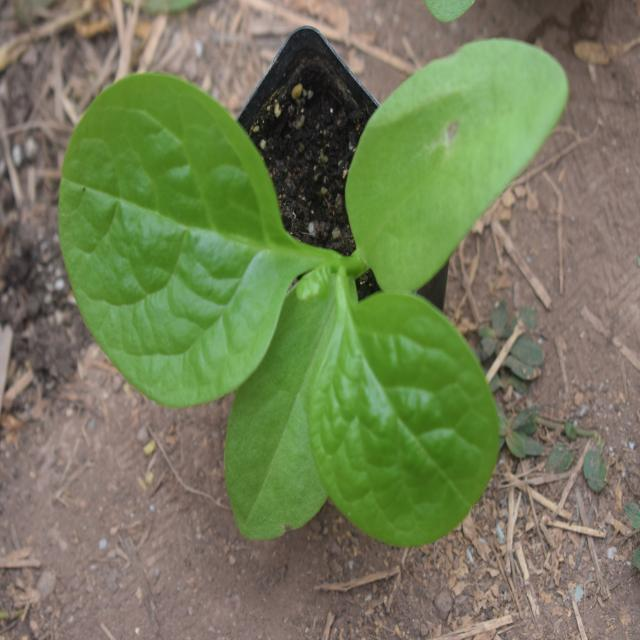Ceylon spinach: (43, 44, 541, 515)
